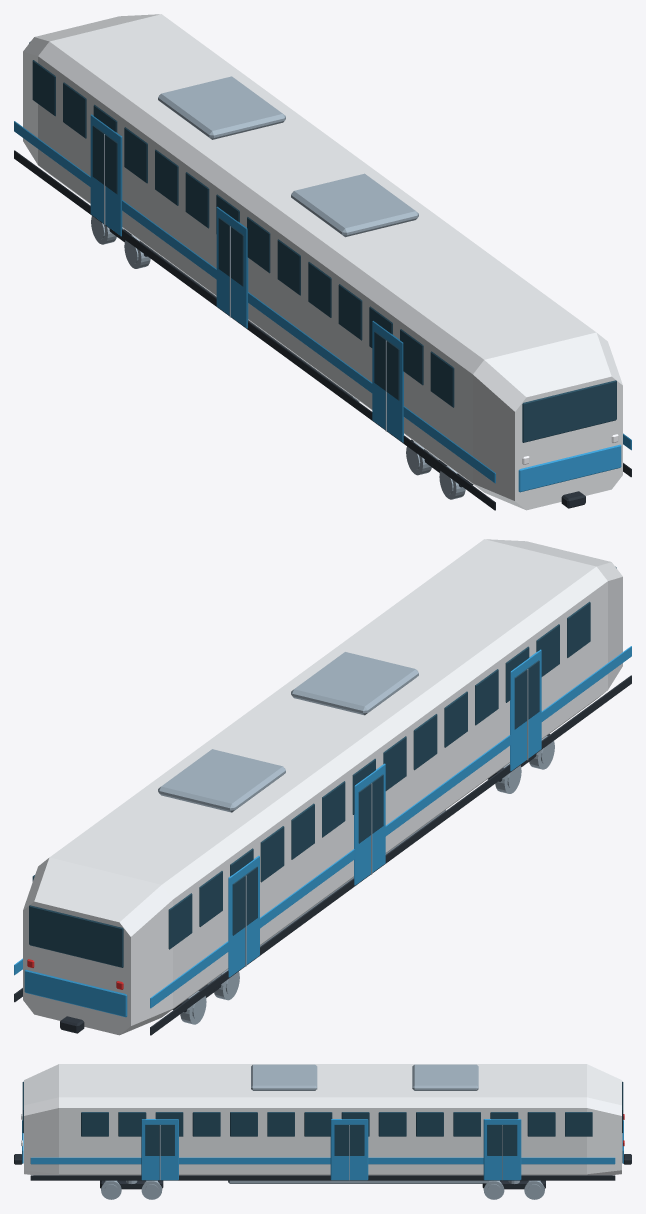
File: taiwan-metro.glb
The picture shows the model from 3 angles, top to bottom: view 1: azimuth 30°, elevation 25°; view 2: azimuth 150°, elevation 25°; view 3: azimuth 270°, elevation 25°; orthographic projection. The views are drawn at different scales.
Parts seen in each view (by area): view 1: Rounded metro shell, Roof HVAC module, Roof HVAC module.001, Distinctive waist stripe, Cab wrap windshield.001, Dark skirt sill, Cab colored front lower panel.001, Rail double-door border, Rail double-door border.002, Rail double-door border.004, Rail door window.004, Rail door window.002 (+12 smaller); view 2: Rounded metro shell, Roof HVAC module, Roof HVAC module.001, Distinctive waist stripe, Cab wrap windshield, Dark skirt sill, Cab colored front lower panel, Rail double-door border.002, Rail double-door border.004, Rail double-door border, Rail door window.004, Rail door window (+12 smaller); view 3: Rounded metro shell, Distinctive waist stripe.001, Dark skirt sill.001, Roof HVAC module, Roof HVAC module.001, Rail double-door border.001, Rail double-door border.003, Rail double-door border.005, Underfloor equipment trunk, Rail door window.001, Rail door window.003, Rail door window.005 (+20 smaller).
Boxes of the visible parts, x1,y1,x2,y2 form: Rounded metro shell: [23, 14, 622, 510]; Roof HVAC module: [158, 76, 285, 139]; Roof HVAC module.001: [291, 173, 418, 237]; Distinctive waist stripe: [14, 121, 495, 483]; Cab wrap windshield.001: [522, 380, 616, 442]; Dark skirt sill: [14, 150, 495, 510]; Cab colored front lower panel.001: [518, 444, 621, 492]; Rail double-door border: [90, 114, 122, 236]; Rail double-door border.002: [216, 206, 248, 328]; Rail double-door border.004: [372, 321, 403, 442]; Rail door window.004: [374, 331, 399, 400]; Rail door window.002: [218, 217, 243, 286]; Rounded metro shell: [23, 539, 622, 1035]; Roof HVAC module: [158, 749, 285, 812]; Roof HVAC module.001: [291, 652, 418, 715]; Distinctive waist stripe: [150, 646, 631, 1008]; Cab wrap windshield: [29, 905, 123, 967]; Dark skirt sill: [150, 675, 631, 1035]; Cab colored front lower panel: [24, 969, 127, 1017]; Rail double-door border.002: [354, 763, 385, 885]; Rail double-door border.004: [510, 649, 541, 771]; Rail double-door border: [228, 855, 259, 977]; Rail door window.004: [514, 660, 539, 729]; Rail door window: [232, 866, 257, 935]; Rounded metro shell: [24, 1064, 621, 1175]; Distinctive waist stripe.001: [30, 1157, 615, 1164]; Dark skirt sill.001: [30, 1175, 615, 1180]; Roof HVAC module: [412, 1064, 478, 1090]; Roof HVAC module.001: [251, 1064, 317, 1090]; Rail double-door border.001: [483, 1119, 521, 1180]; Rail double-door border.003: [330, 1119, 368, 1180]; Rail double-door border.005: [141, 1119, 178, 1180]; Underfloor equipment trunk: [228, 1180, 489, 1183]; Rail door window.001: [487, 1124, 517, 1155]; Rail door window.003: [334, 1124, 364, 1155]; Rail door window.005: [145, 1124, 174, 1155].
Size of the model in its own units: 3 by 3.66 by 18.6.
